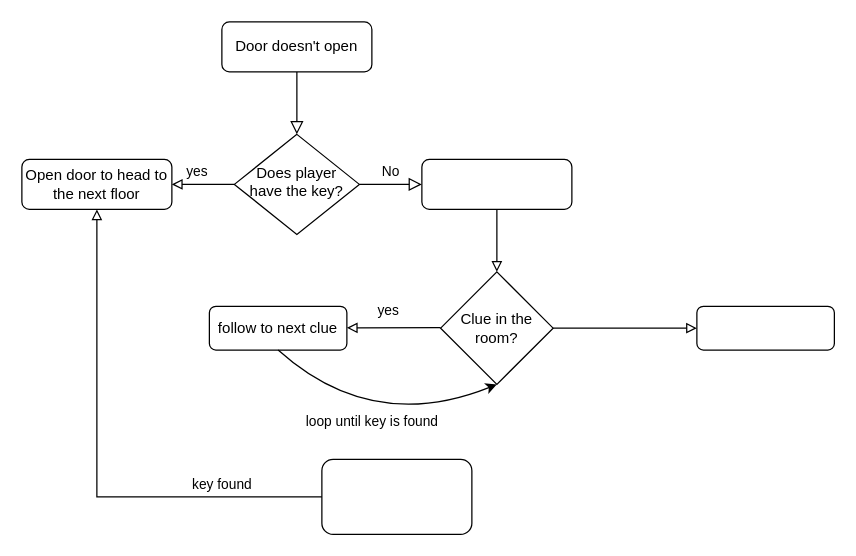
This 856x556 diagram has some shape labels left out. Each missing label, with the centre of its shape:
continue looking through rooms: the point at 765,327
Loop until key found: the point at 396,496
Search map for key by checking each room for clues: the point at 496,183
